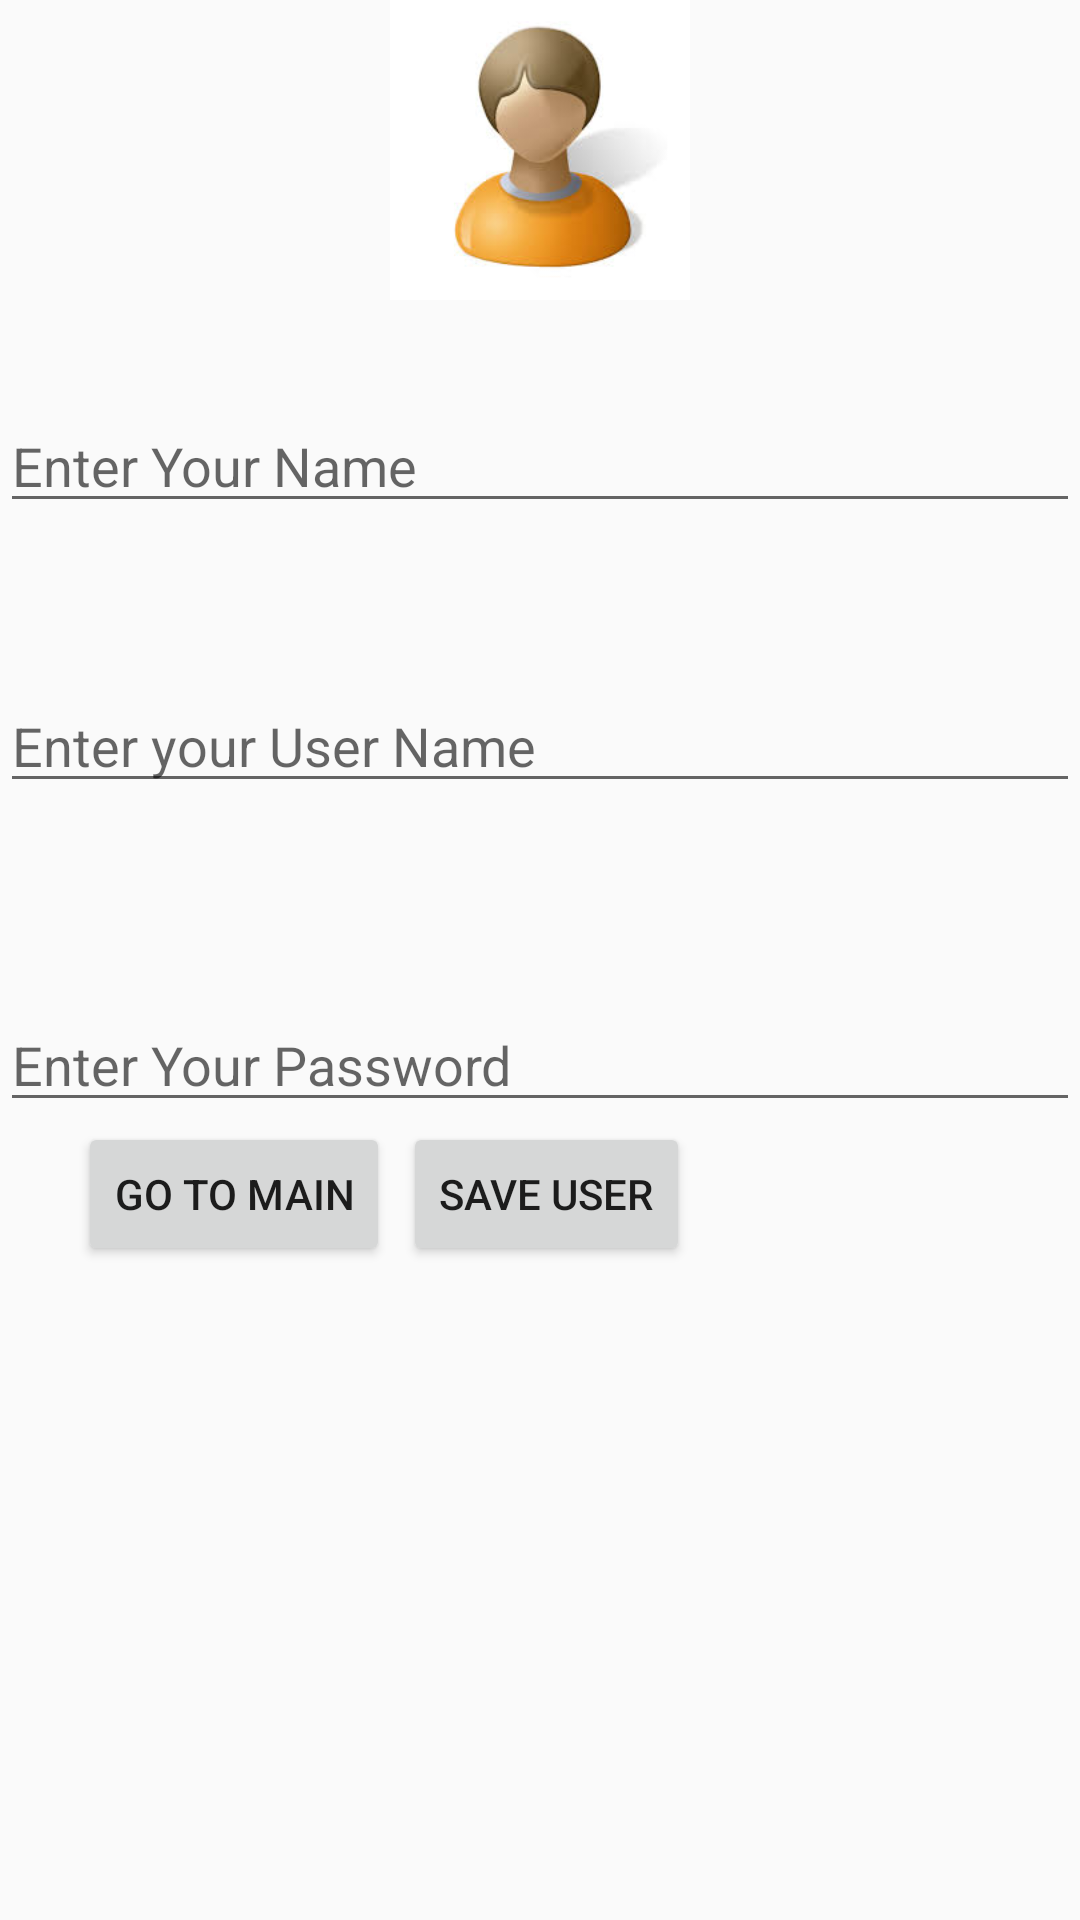

Named icons in this screenshot (1080 × 1920) and their bounding boxes, (x1, y1, x2, y2):
profile: (454, 26, 642, 268)
